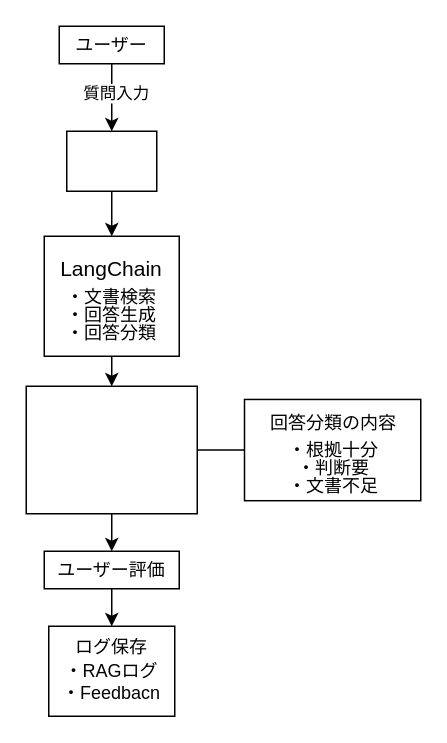
Some shapes in this 447 by 743 pixel diagram are drawn without their labels. Here are the shapes that lost their labels. From the top down, the box of each, then its label:
(65, 130, 157, 191): Streamlit UI
(25, 385, 197, 514): 回答を表示 ・回答内容 ・回答分類 ・根拠文書
